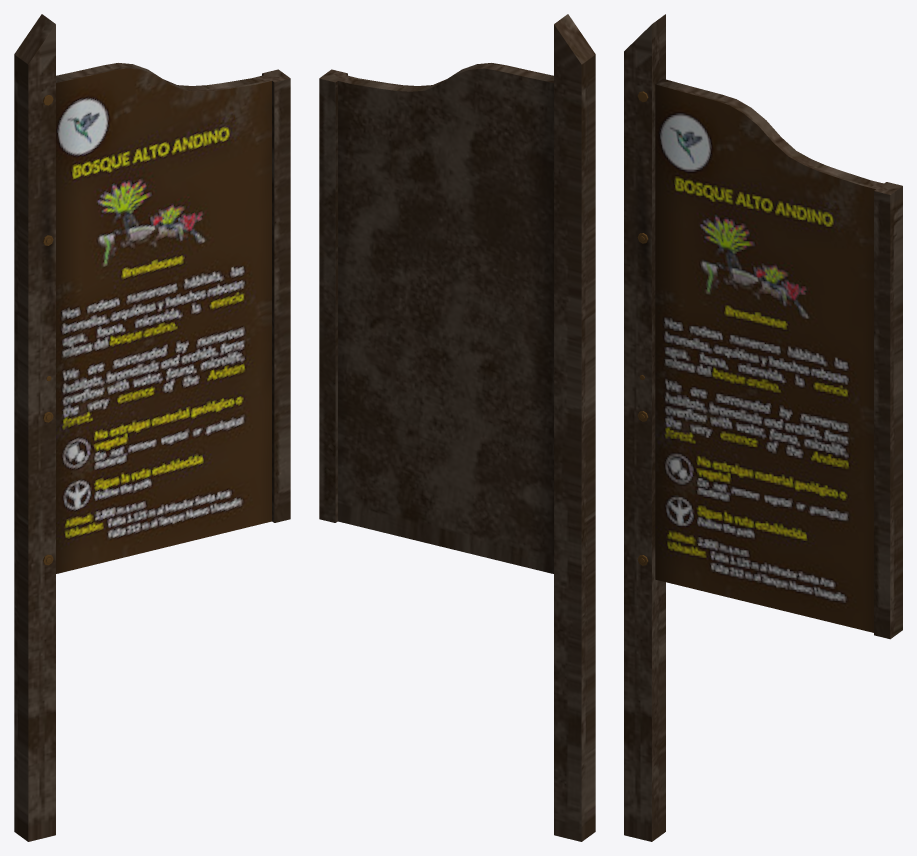
File: letrero-bosque-alto-andino.glb
3 views of the same model, side by side, from view 1: azimuth 30°, elevation 25°; view 2: azimuth 150°, elevation 25°; view 3: azimuth 330°, elevation 25° (orthographic).
Visible parts, largest first — view 1: Mesh_0; view 2: Mesh_0; view 3: Mesh_0.
Boxes of the visible parts, bbox=[...] form: Mesh_0: bbox=[14, 14, 290, 841]; Mesh_0: bbox=[319, 14, 595, 841]; Mesh_0: bbox=[624, 14, 902, 841].
Bounding box in the file's own units: 3.76 × 11.05 × 0.3871.
Materials: 4 (4 with a texture image).
